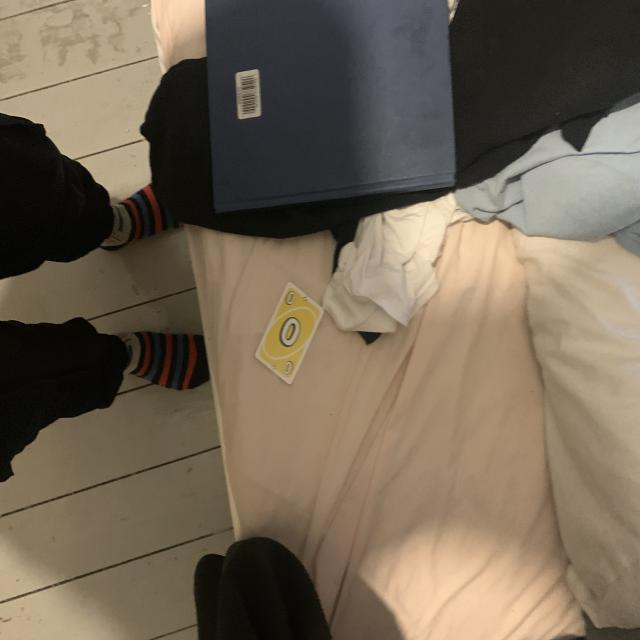lyellow-0: (284, 289, 297, 307)
